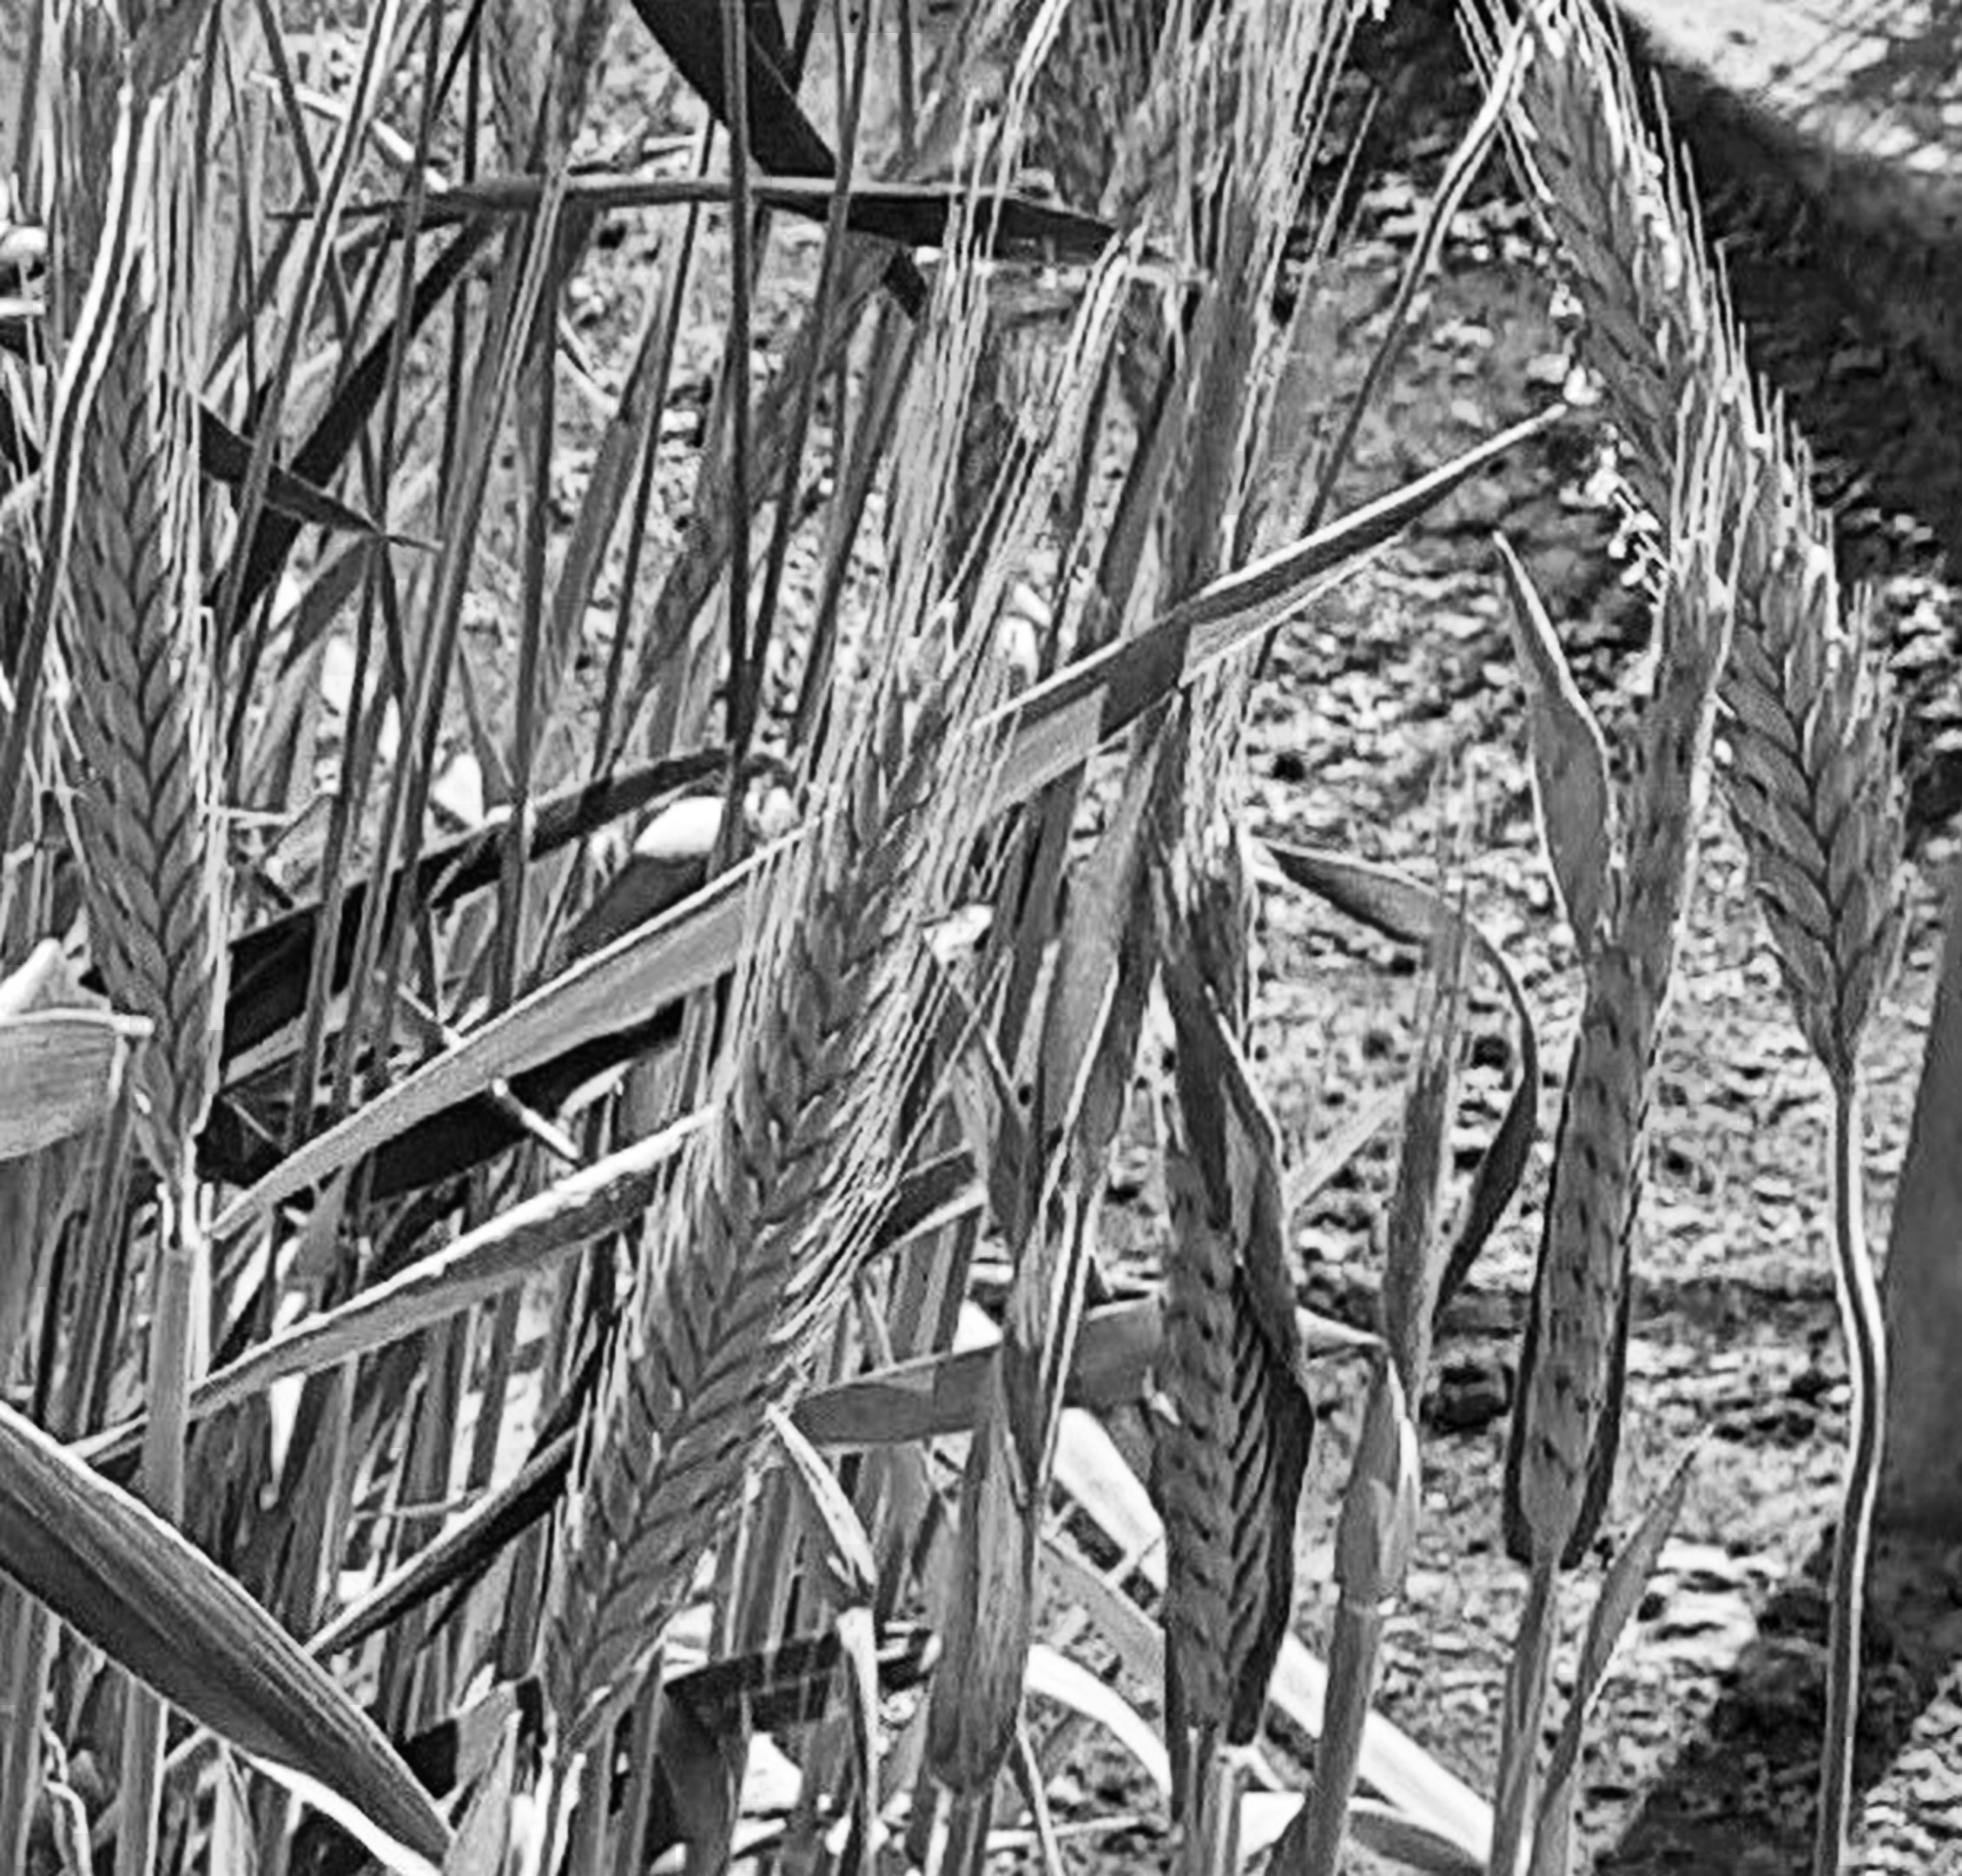Healthy Wheat: (529, 715, 972, 1736), (39, 224, 229, 1214)
